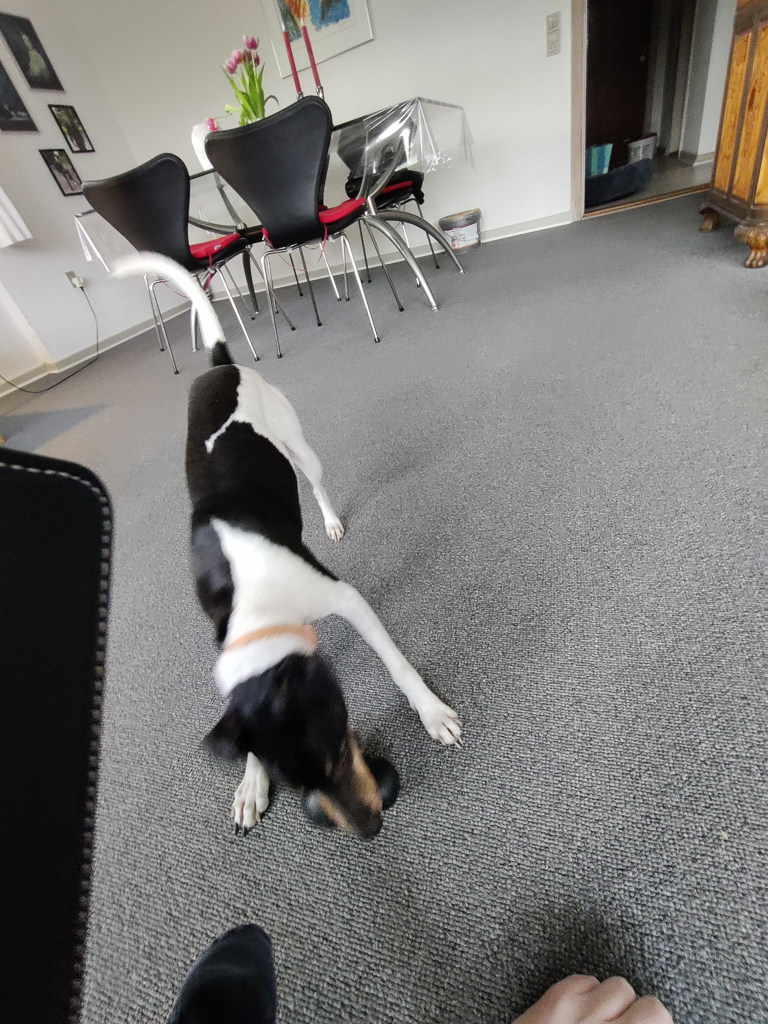Dog: (81, 230, 501, 852)
Humanoid: (140, 907, 691, 1024)
